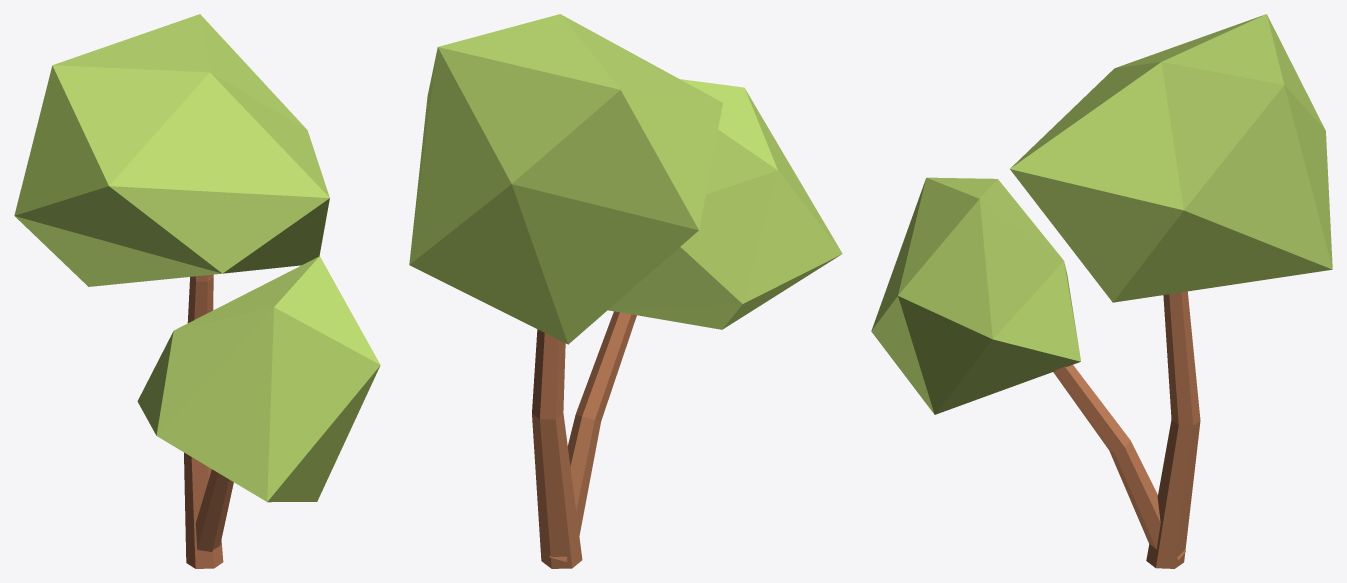
Rendered from Tree_1.fbx.
3 views of the same model, side by side, from view 1: azimuth 30°, elevation 25°; view 2: azimuth 150°, elevation 25°; view 3: azimuth 270°, elevation 25° (orthographic). The views are drawn at different scales.
Parts seen in each view (by area): view 1: Icosphere.001; view 2: Icosphere.001; view 3: Icosphere.001.
Part boxes in pixels (<box>): Icosphere.001: <box>14,14,380,568</box>; Icosphere.001: <box>409,14,842,568</box>; Icosphere.001: <box>871,14,1332,568</box>.
Bounding box in the file's own units: 276 × 486 × 401.
